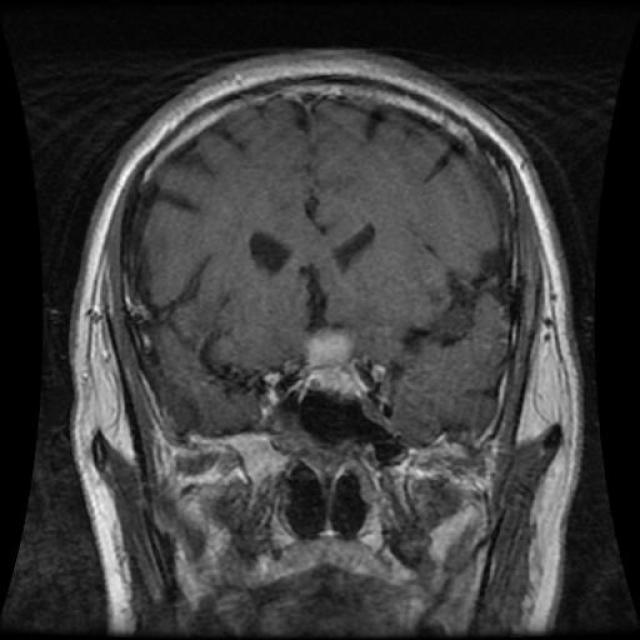pituitary: (262, 325, 382, 422)
